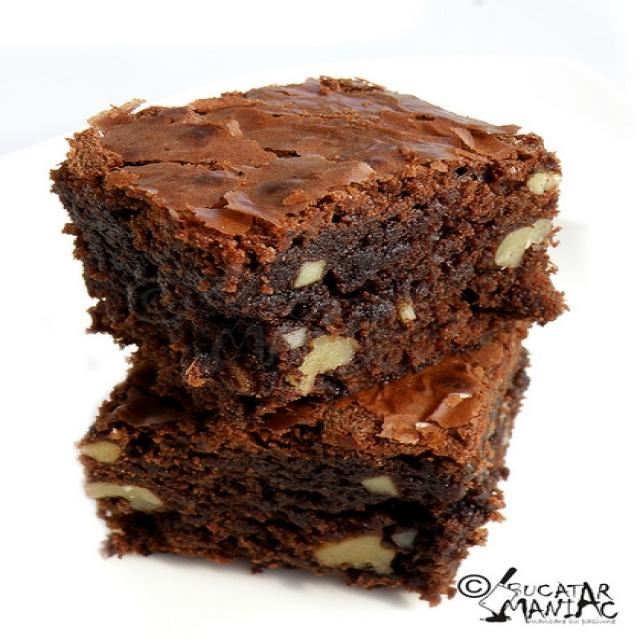蛋糕甜品: (42, 29, 596, 592)
